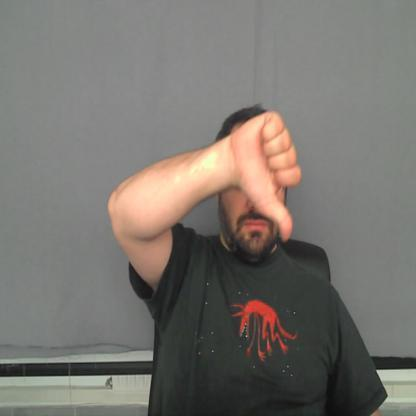thumbs-down: (229, 106, 312, 243)
